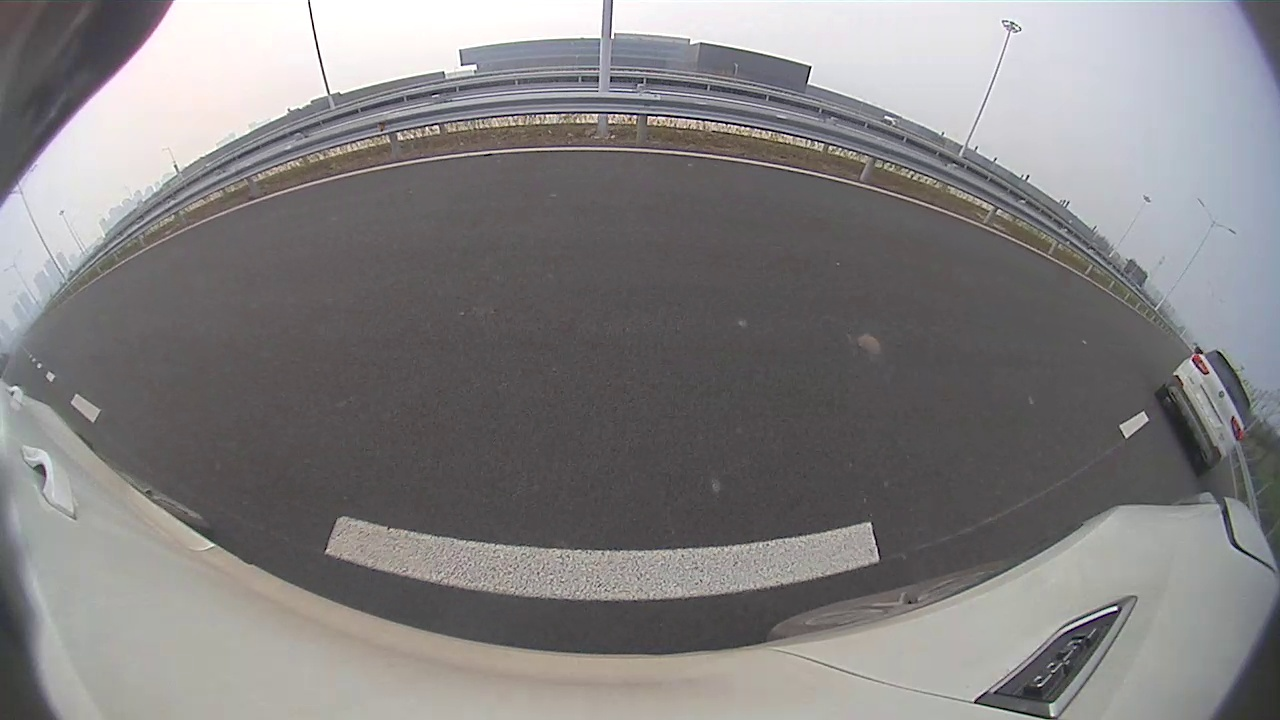car: (893, 111, 1275, 494)
front: (908, 229, 1019, 360)
